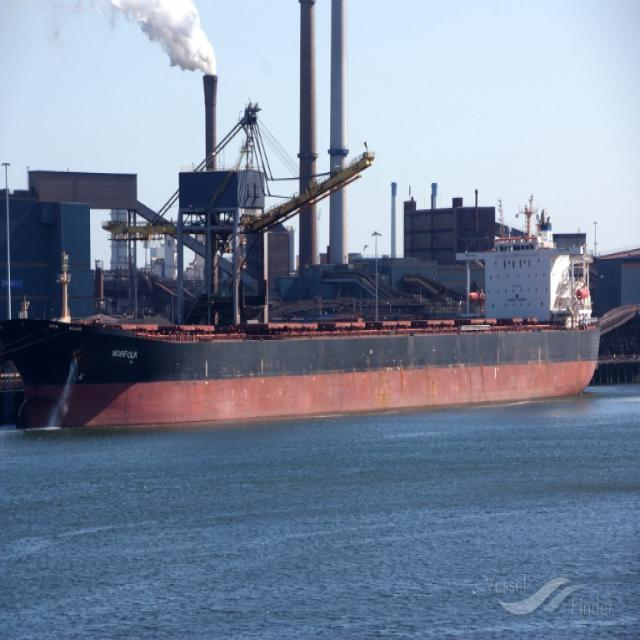OCR: (105, 341, 142, 364)
